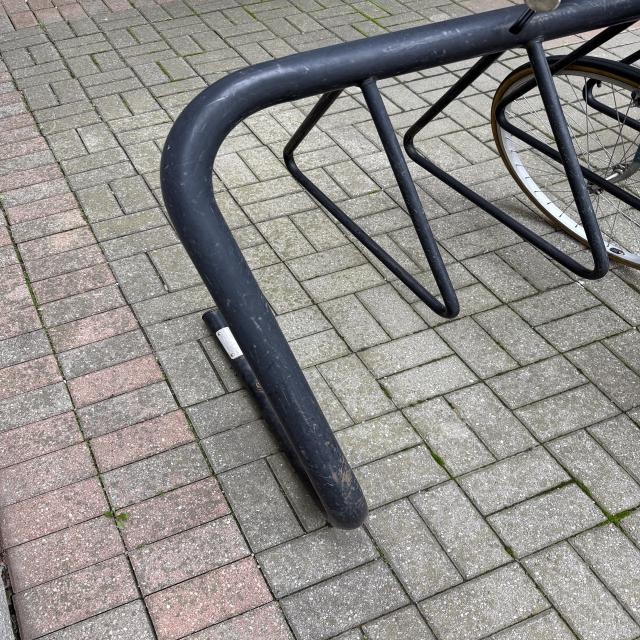Bicycle Rack: (157, 0, 640, 528)
